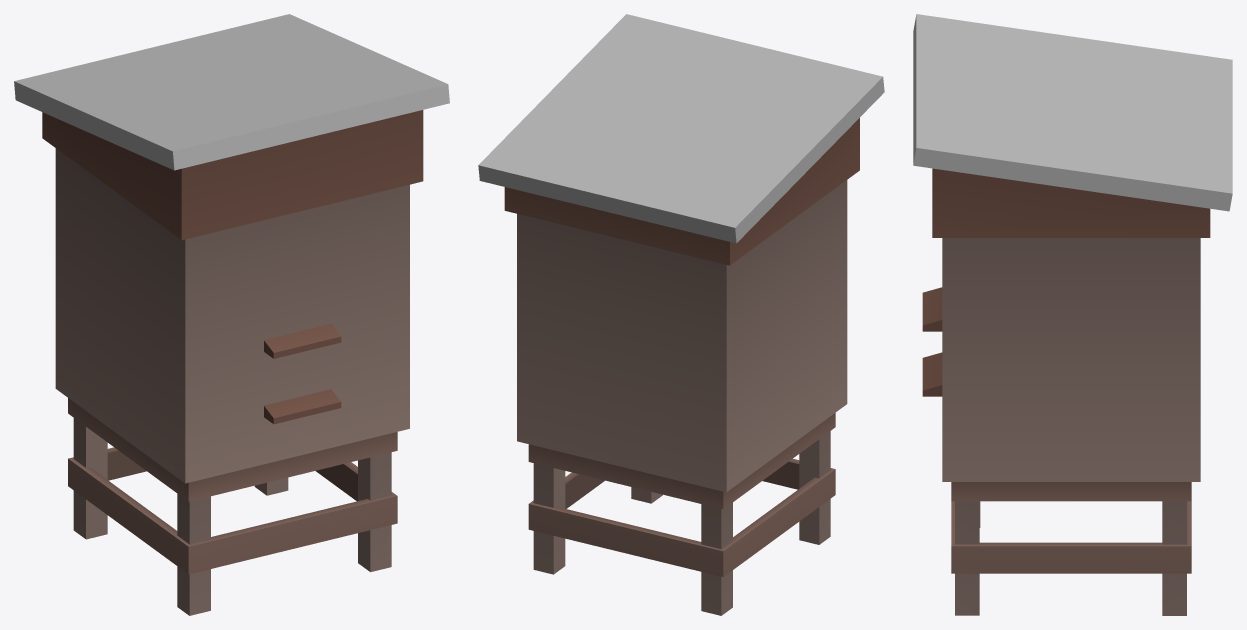
Rendered from apiary_001.glb.
3 renders of one model, left to right at view 1: azimuth 30°, elevation 25°; view 2: azimuth 150°, elevation 25°; view 3: azimuth 270°, elevation 25°, orthographic. The views are drawn at different scales.
Parts seen in each view (by area): view 1: apiary_001; view 2: apiary_001; view 3: apiary_001.
Part boxes in pixels (x1,y1,x2,y2): apiary_001: [14, 14, 449, 615]; apiary_001: [478, 14, 884, 615]; apiary_001: [913, 14, 1232, 615].
Bounding box in the file's own units: 0.7509 × 1.27 × 0.7572.
Materials: 1 (1 with a texture image).
